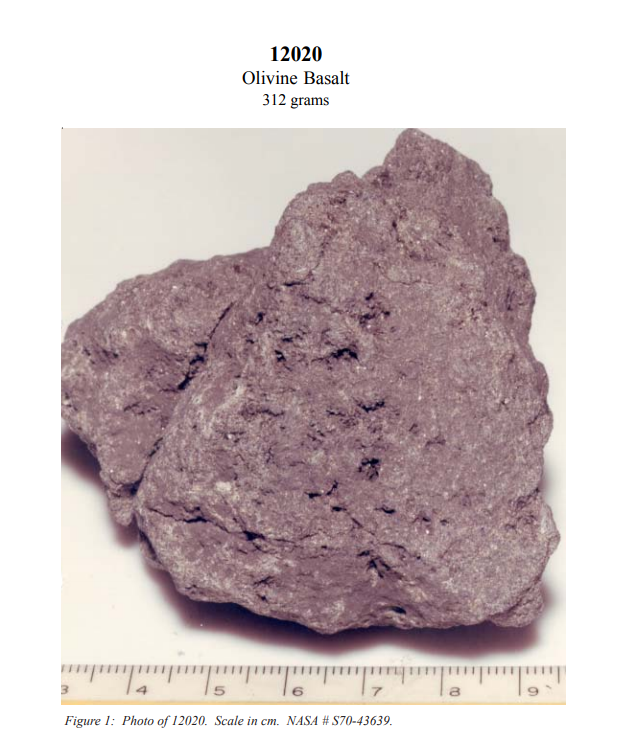Basalt: (60, 129, 567, 644)
